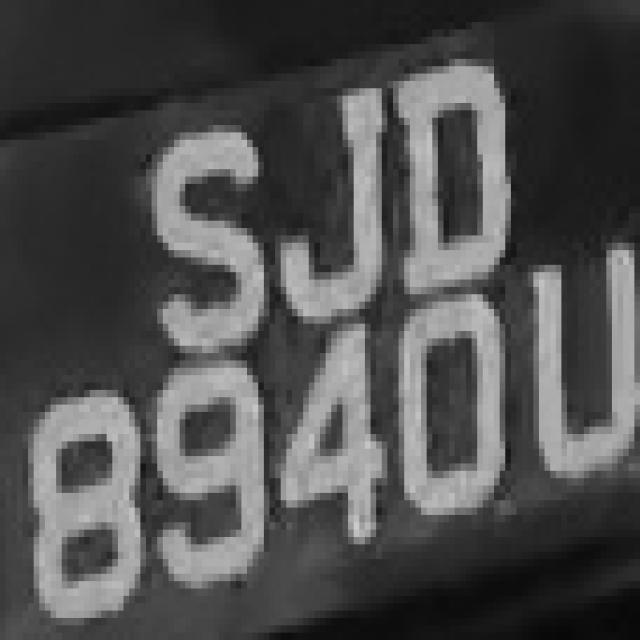0: (376, 265, 489, 537)
4: (270, 302, 388, 574)
8: (6, 368, 146, 640)
9: (152, 324, 280, 603)
D: (388, 58, 506, 302)
J: (253, 66, 393, 324)
S: (124, 95, 258, 368)
U: (511, 228, 629, 500)
